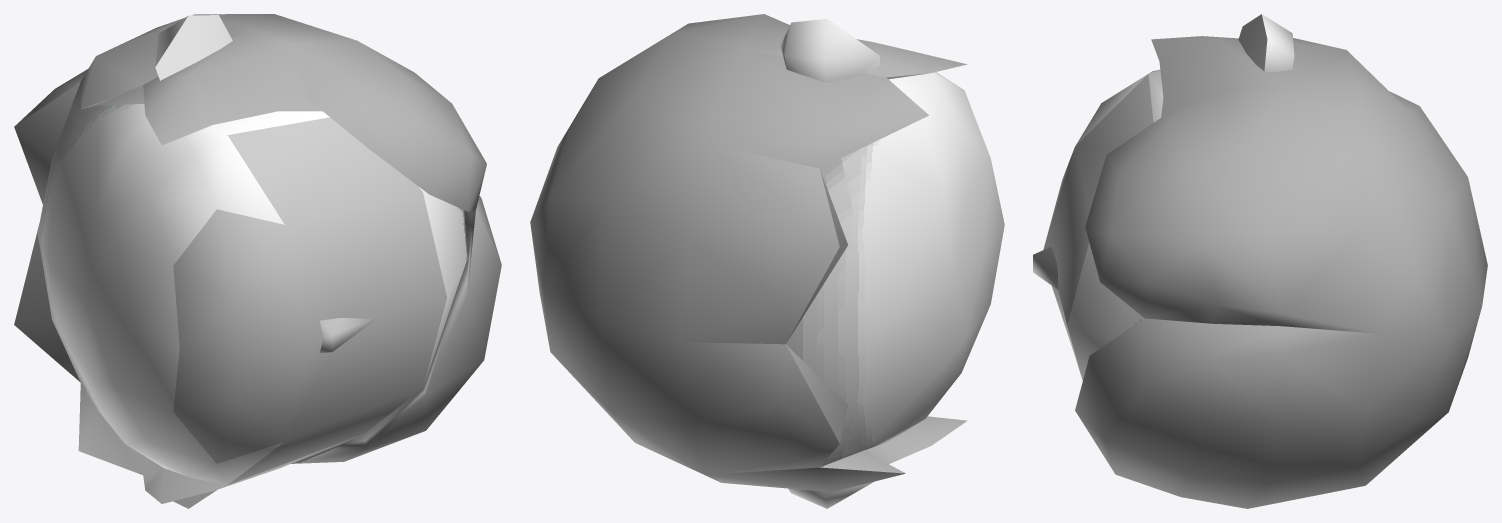
File: girl11a.dae
The picture shows the model from 3 angles, left to right: view 1: azimuth 30°, elevation 25°; view 2: azimuth 150°, elevation 25°; view 3: azimuth 270°, elevation 25°; orthographic projection. The views are drawn at different scales.
Parts seen in each view (by area): view 1: vsn_mesh_1_, vsn_mesh_0_, vsn_mesh_2_; view 2: vsn_mesh_1_; view 3: vsn_mesh_1_, vsn_mesh_0_.
Boxes of the visible parts, <box> form: vsn_mesh_1_: <box>14,14,501,508</box>; vsn_mesh_0_: <box>227,117,446,484</box>; vsn_mesh_2_: <box>173,209,311,463</box>; vsn_mesh_1_: <box>530,14,1004,508</box>; vsn_mesh_1_: <box>1067,14,1487,508</box>; vsn_mesh_0_: <box>1033,74,1153,380</box>.
Size of the model in its own units: 21.66 by 26.71 by 23.15.
